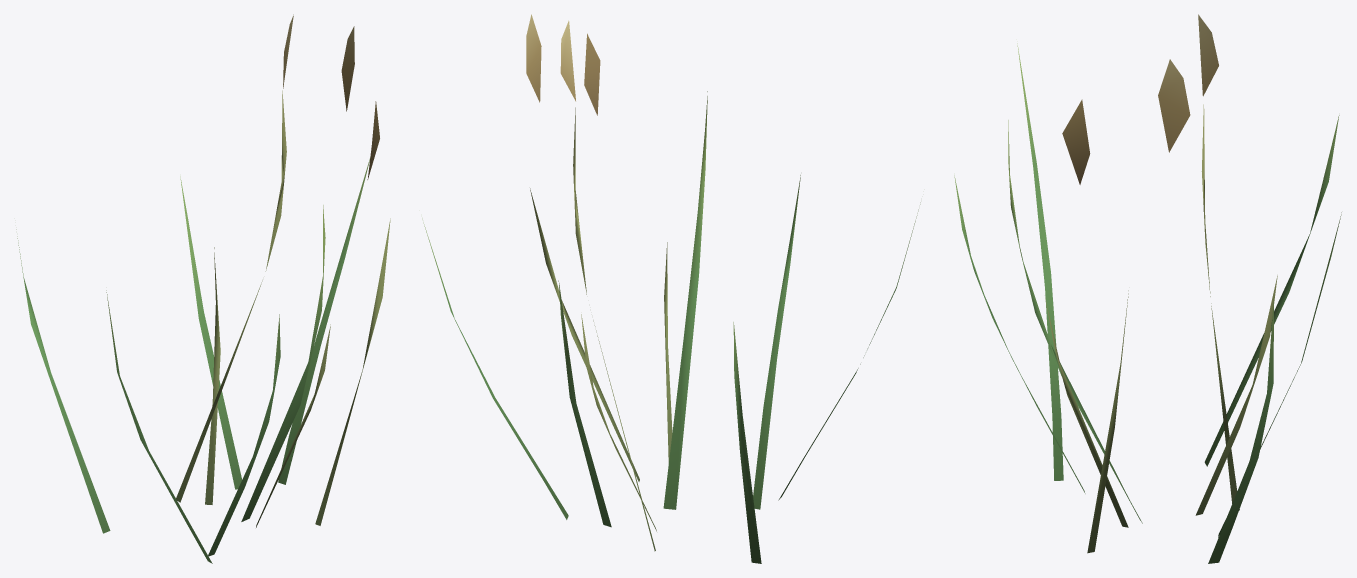
File: TallMeadowClump_LOD2.glb
3 renders of one model, left to right at view 1: azimuth 30°, elevation 25°; view 2: azimuth 150°, elevation 25°; view 3: azimuth 270°, elevation 25°, orthographic. The views are drawn at different scales.
Visible parts, largest first — view 1: TallMeadowClump_LOD2; view 2: TallMeadowClump_LOD2; view 3: TallMeadowClump_LOD2.
Boxes of the visible parts, x1,y1,x2,y2 form: TallMeadowClump_LOD2: (16, 14, 390, 563); TallMeadowClump_LOD2: (422, 14, 920, 563); TallMeadowClump_LOD2: (954, 14, 1341, 563).
Bounding box in the file's own units: 0.4195 × 0.5056 × 0.3209.
